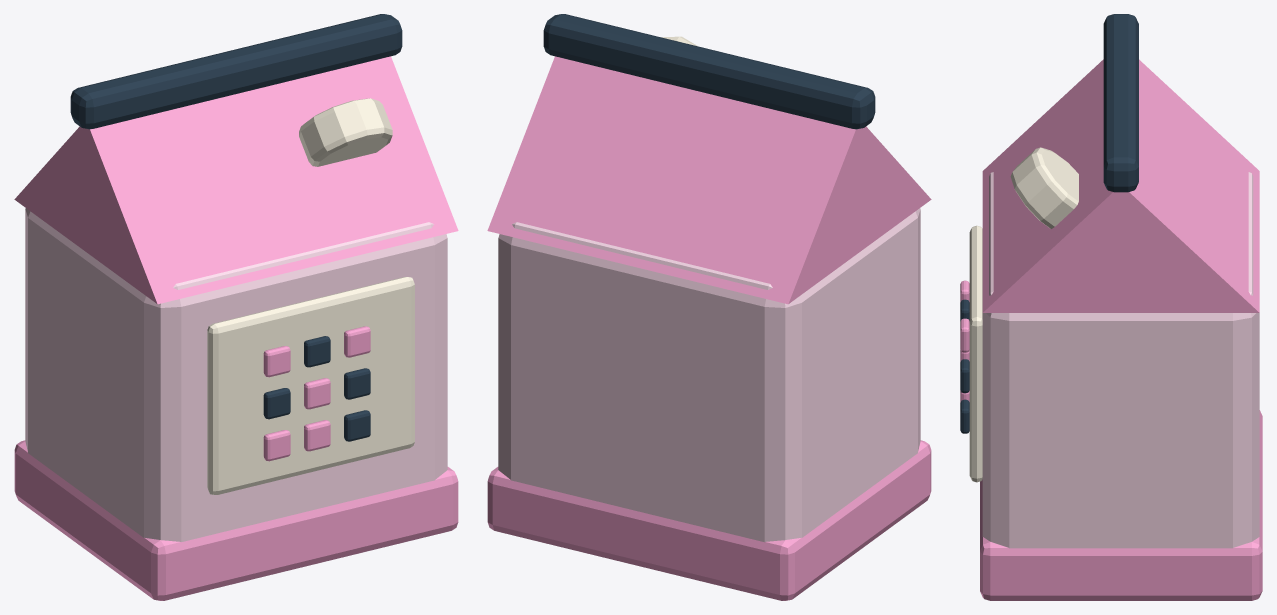
The model's file is data_cream_item.glb.
3 renders of one model, left to right at view 1: azimuth 30°, elevation 25°; view 2: azimuth 150°, elevation 25°; view 3: azimuth 270°, elevation 25°, orthographic. The views are drawn at different scales.
Visible parts, largest first — view 1: Data cream carton, Folded cream carton, Data cream label, Carton lower band, Carton sealed ridge; view 2: Data cream carton, Folded cream carton, Carton lower band, Carton sealed ridge; view 3: Data cream carton, Folded cream carton, Carton lower band, Data cream label, Carton sealed ridge.
Part boxes in pixels (x1=…): Data cream carton: x1=25, y1=208, x2=447, y2=541; Folded cream carton: x1=14, y1=56, x2=458, y2=304; Data cream label: x1=207, y1=98, x2=414, y2=494; Carton lower band: x1=14, y1=326, x2=458, y2=600; Carton sealed ridge: x1=70, y1=14, x2=402, y2=441; Data cream carton: x1=498, y1=208, x2=920, y2=542; Folded cream carton: x1=487, y1=56, x2=931, y2=304; Carton lower band: x1=487, y1=440, x2=931, y2=600; Carton sealed ridge: x1=543, y1=14, x2=875, y2=129; Data cream carton: x1=982, y1=172, x2=1259, y2=548; Folded cream carton: x1=982, y1=59, x2=1259, y2=312; Carton lower band: x1=960, y1=280, x2=1262, y2=600; Data cream label: x1=969, y1=147, x2=1078, y2=482; Carton sealed ridge: x1=960, y1=14, x2=1138, y2=433.
Size of the model in its own units: 0.61 by 0.8375 by 0.513.
